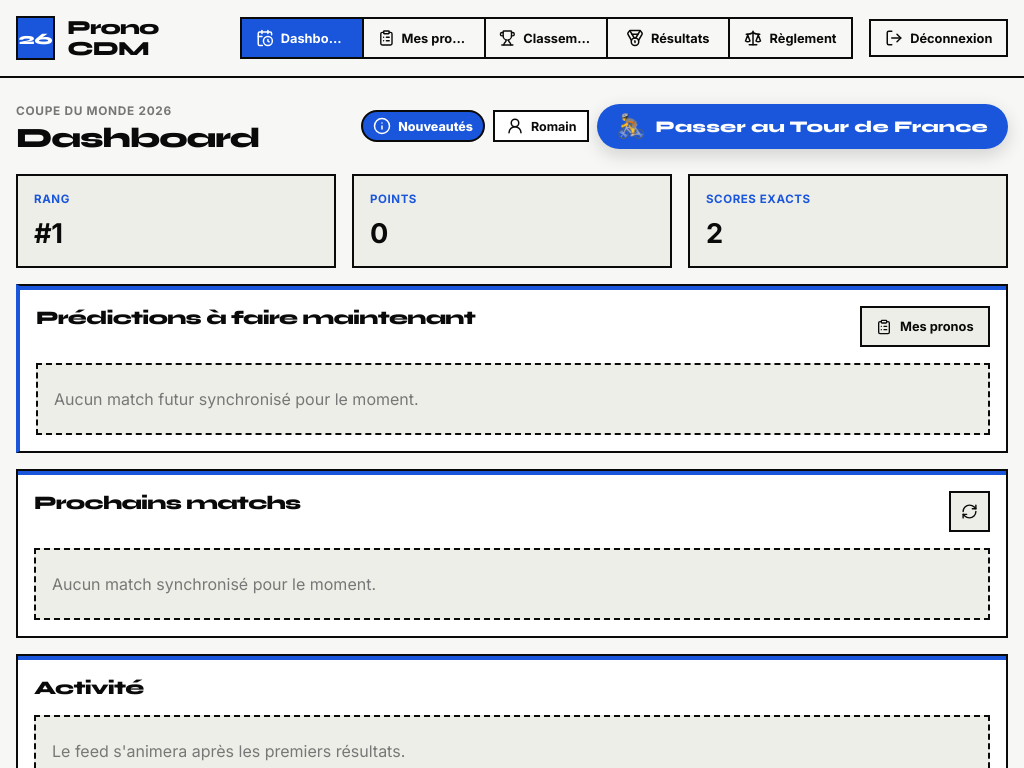
Test: App components › unifie la navigation : la bascule d'univers garde les onglets dans le shell et adapte la marque
Expected: the text "Coupe du monde 2026" is shown, [16, 104, 172, 118]
Expected: the text "Prono CDM" is shown, [67, 15, 159, 61]
// Bascule vers le Tour de France : même shell, marque et en-tête adaptés.
Click the button "🚴 Passer au Tour de France".
click(802, 126)  # box [597, 104, 1008, 149]
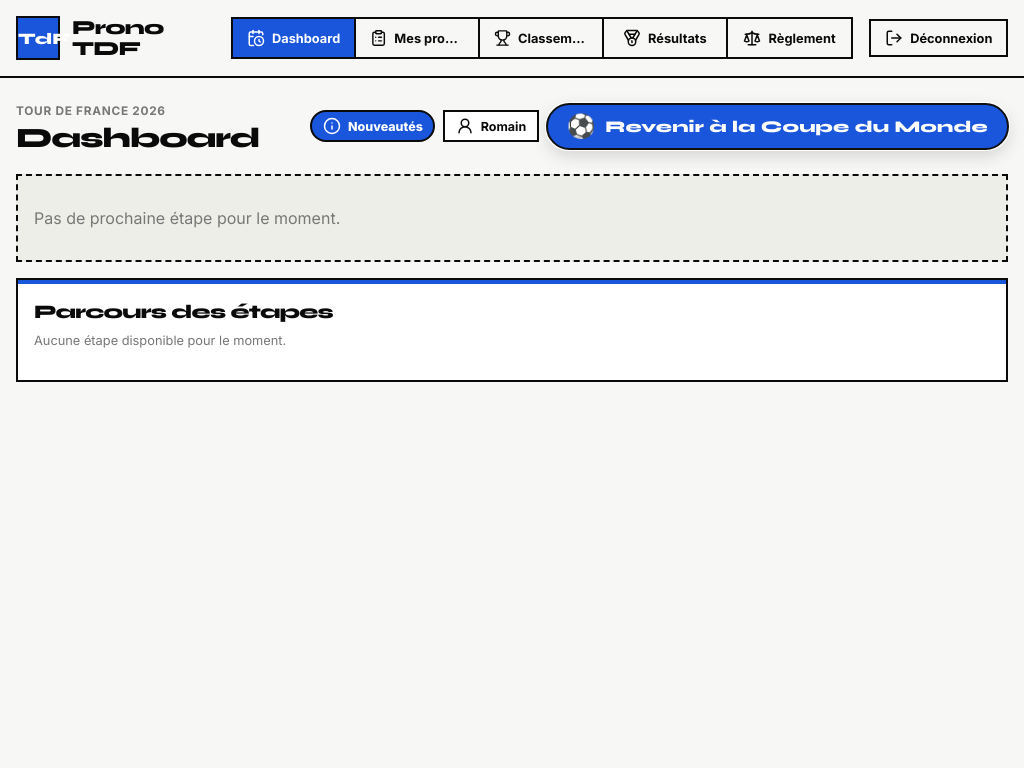
Expected: the button "Mes pronos" is shown, [356, 19, 480, 57]
Expected: the text "Tour de France 2026" is shown, [16, 104, 166, 118]
Expected: the text "Prono TDF" is shown, [72, 15, 163, 61]
// Retour à la Coupe du monde.
Click the button "⚽ Revenir à la Coupe du Monde".
click(777, 126)  # box [547, 104, 1008, 149]
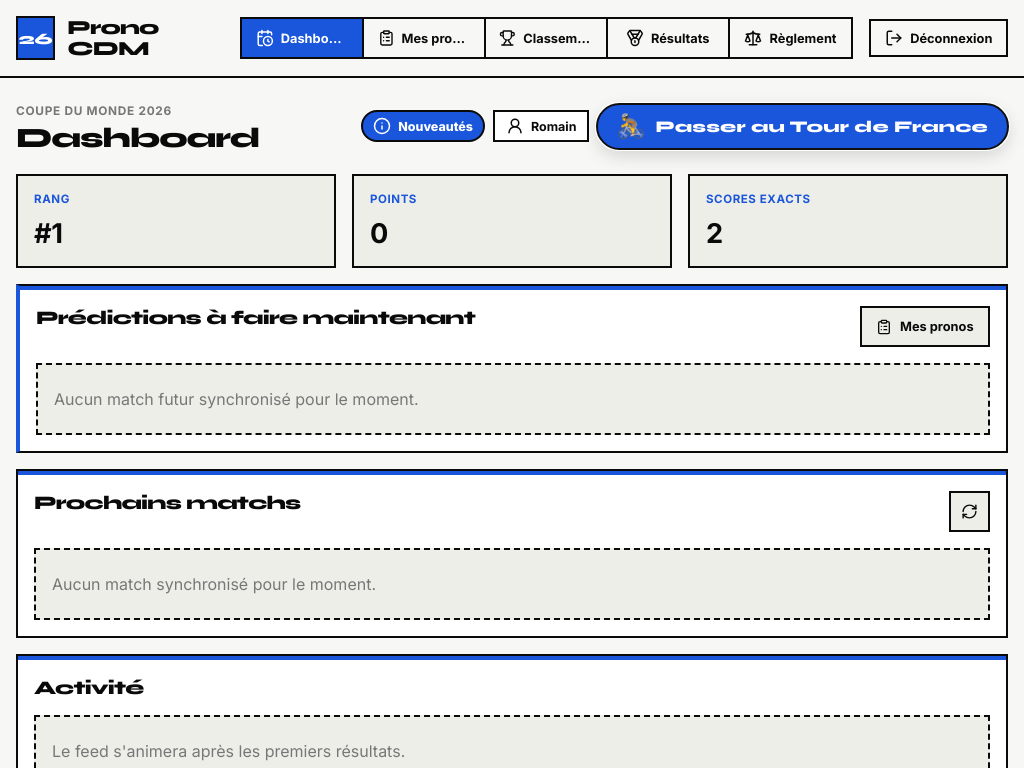
Expected: the text "Prono CDM" is shown, [67, 15, 159, 61]
